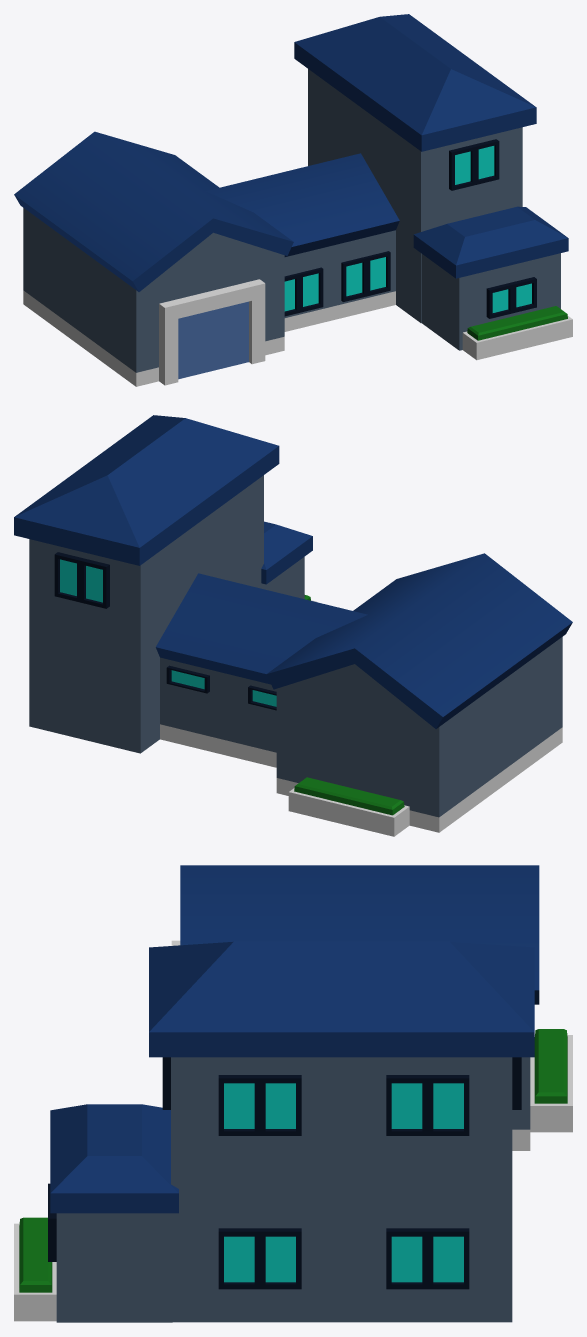
File: House_1.fbx
3 renders of one model, top to bottom at view 1: azimuth 30°, elevation 25°; view 2: azimuth 150°, elevation 25°; view 3: azimuth 270°, elevation 25°, orthographic. The views are drawn at different scales.
Visible parts, largest first — view 1: House_1; view 2: House_1; view 3: House_1.
Part boxes in pixels (x1,y1,x2,y2): House_1: [14, 14, 572, 386]; House_1: [14, 415, 572, 836]; House_1: [14, 865, 572, 1322].
Size of the model in its own units: 78.13 by 43 by 63.52.
